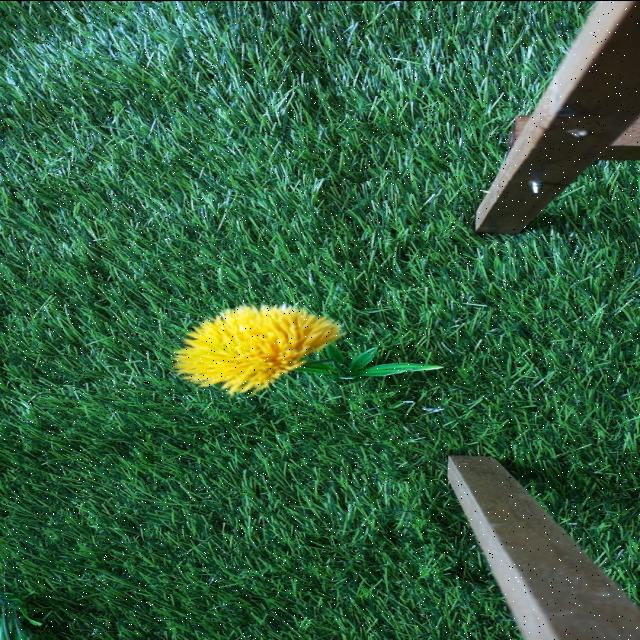base: (292, 344, 444, 382)
flower: (174, 304, 336, 388)
